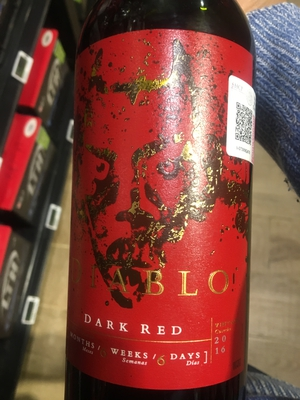diablo dark red: (74, 9, 255, 400)
